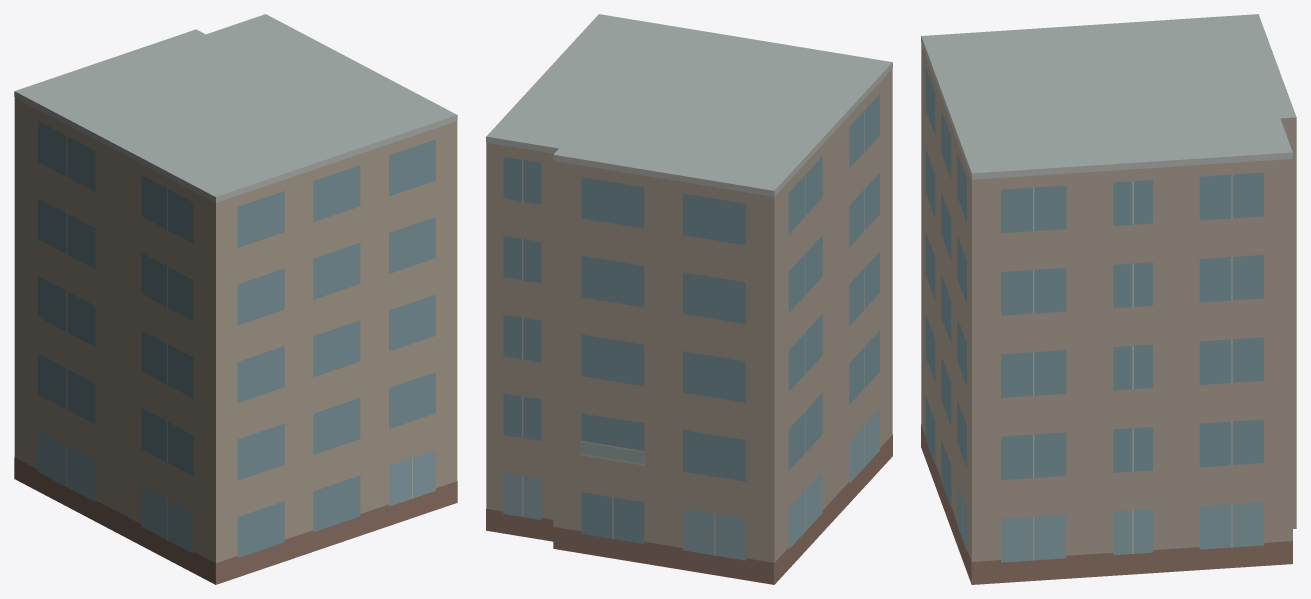
The model's file is survey-upis-32878994.glb.
3 views of the same model, side by side, from view 1: azimuth 30°, elevation 25°; view 2: azimuth 150°, elevation 25°; view 3: azimuth 270°, elevation 25° (orthographic). The views are drawn at different scales.
Visible parts, largest first — view 1: survey-upis-32878994.tmp; view 2: survey-upis-32878994.tmp; view 3: survey-upis-32878994.tmp.
Boxes of the visible parts, <box> form: survey-upis-32878994.tmp: <box>14,14,457,584</box>; survey-upis-32878994.tmp: <box>486,14,892,584</box>; survey-upis-32878994.tmp: <box>921,14,1296,584</box>.
Bounding box in the file's own units: 13.14 × 15.8 × 13.07.
